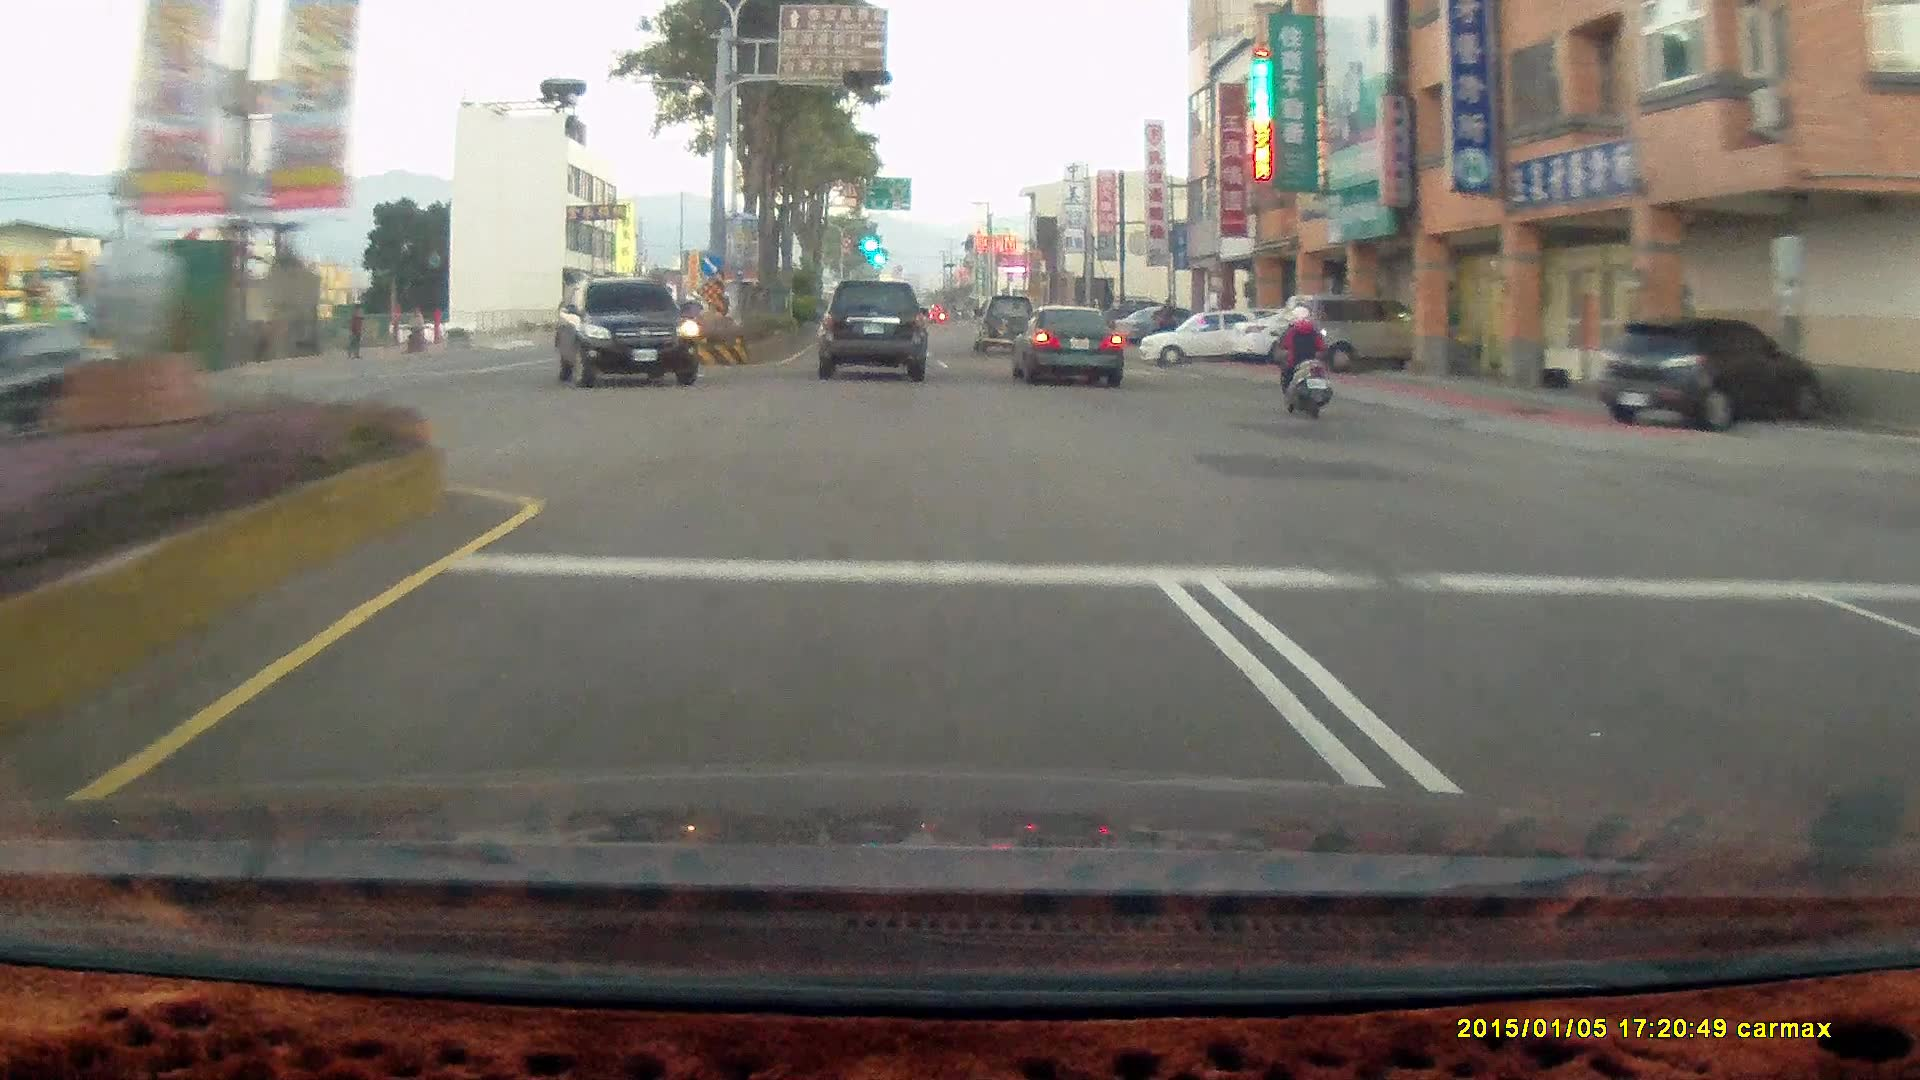pedestrian: (343, 306, 364, 360)
rider: (1263, 294, 1342, 426), (1271, 299, 1332, 415)
vehicle: (1602, 318, 1824, 431), (1600, 320, 1817, 425), (553, 277, 701, 388), (553, 276, 698, 387), (1, 322, 127, 431), (1269, 294, 1447, 371), (1270, 295, 1421, 372), (823, 276, 933, 379), (817, 279, 927, 381), (1009, 302, 1131, 385), (1007, 300, 1122, 384), (1145, 304, 1282, 369), (1137, 308, 1274, 367), (971, 290, 1039, 349), (1117, 302, 1206, 342)
